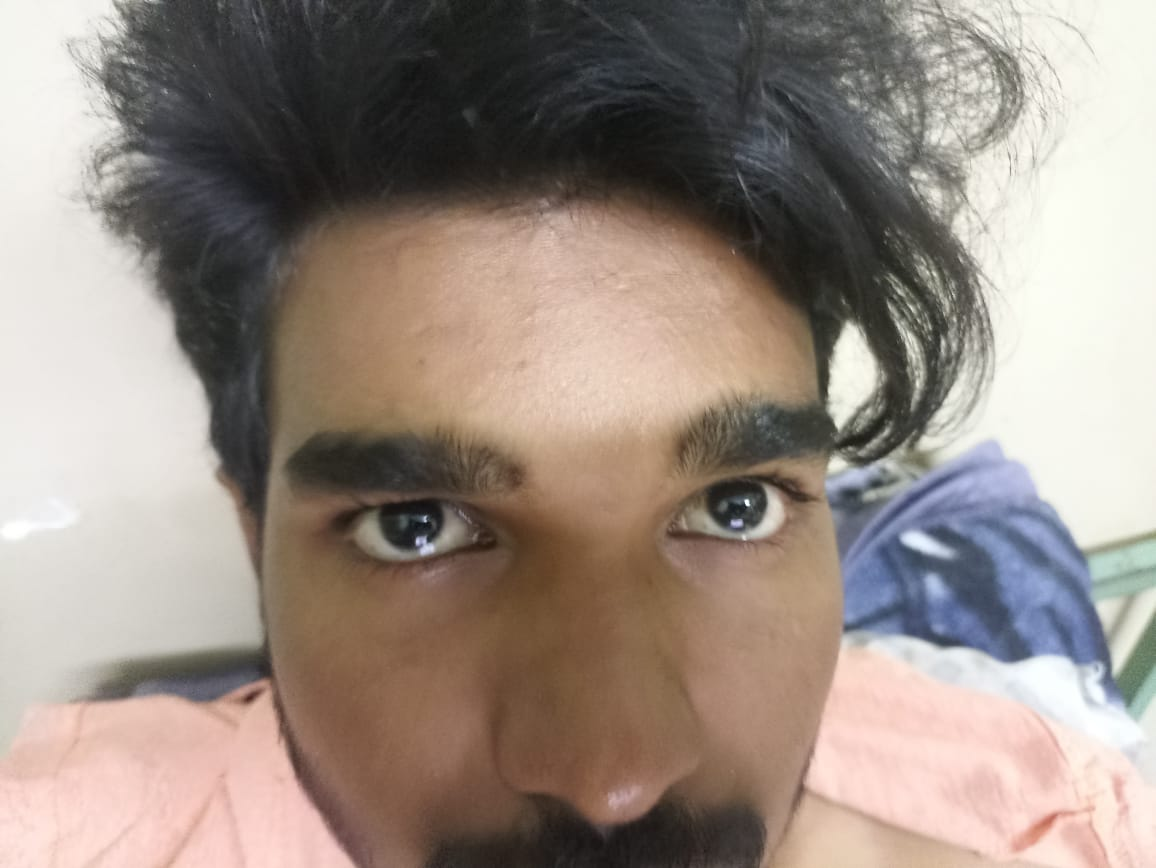EYE UP: (580, 362, 890, 681), (235, 375, 527, 660)
